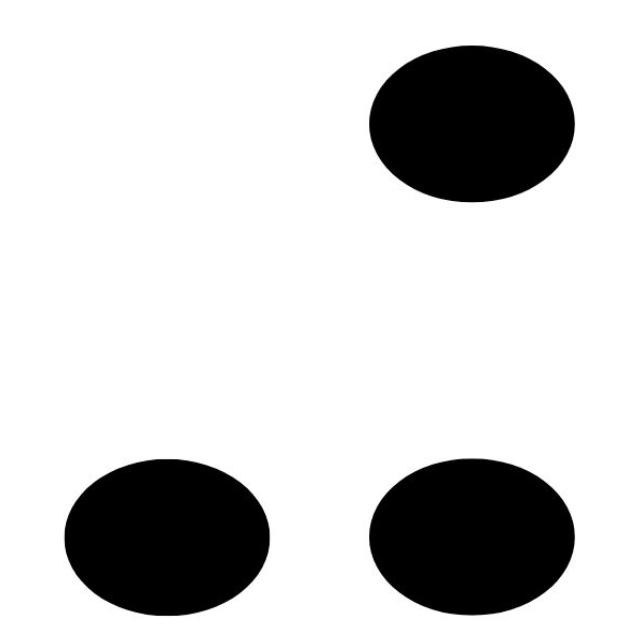one_cell_non_alphabet_ingay: (63, 42, 574, 620)
